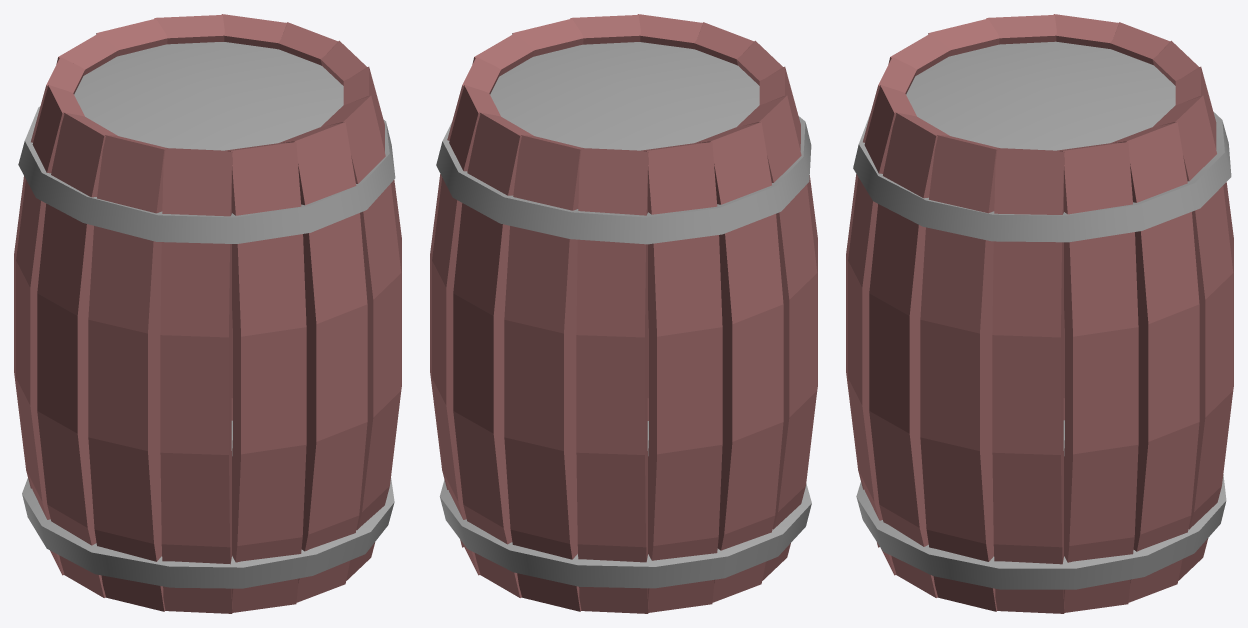
File: Barril2.fbx
3 renders of one model, left to right at view 1: azimuth 30°, elevation 25°; view 2: azimuth 150°, elevation 25°; view 3: azimuth 270°, elevation 25°, orthographic.
Parts seen in each view (by area): view 1: polySurface4805, polySurface4807, polySurface4810, polySurface4798, polySurface4793, polySurface4794, polySurface4802, polySurface4806, polySurface4800, polySurface4796, polySurface4808, polySurface4809 (+6 smaller); view 2: polySurface4809, polySurface4804, polySurface4803, polySurface4796, polySurface4793, polySurface4799, polySurface4794, polySurface4806, polySurface4800, polySurface4808, polySurface4798, polySurface4795 (+6 smaller); view 3: polySurface4795, polySurface4797, polySurface4801, polySurface4808, polySurface4793, polySurface4802, polySurface4799, polySurface4806, polySurface4800, polySurface4798, polySurface4796, polySurface4805 (+6 smaller).
Boxes of the visible parts, x1,y1,x2,y2 form: polySurface4805: (225, 142, 306, 612); polySurface4807: (160, 148, 232, 613); polySurface4810: (88, 135, 166, 611); polySurface4798: (278, 122, 367, 602); polySurface4793: (74, 42, 343, 150); polySurface4794: (37, 112, 117, 597); polySurface4802: (321, 95, 401, 580); polySurface4806: (18, 106, 395, 243); polySurface4800: (22, 420, 394, 588); polySurface4796: (16, 85, 84, 575); polySurface4808: (221, 14, 287, 420); polySurface4809: (14, 57, 84, 488); polySurface4809: (641, 142, 722, 612); polySurface4804: (576, 148, 648, 613); polySurface4803: (504, 135, 582, 611); polySurface4796: (694, 122, 783, 602); polySurface4793: (490, 42, 759, 150); polySurface4799: (453, 112, 533, 597); polySurface4794: (737, 95, 817, 580); polySurface4806: (436, 116, 811, 244); polySurface4800: (439, 421, 811, 588); polySurface4808: (432, 85, 500, 575); polySurface4798: (637, 14, 703, 420); polySurface4795: (430, 57, 500, 547); polySurface4795: (1057, 142, 1138, 612); polySurface4797: (992, 148, 1064, 613); polySurface4801: (920, 135, 998, 611); polySurface4808: (1110, 122, 1199, 602); polySurface4793: (906, 41, 1175, 150); polySurface4802: (869, 112, 949, 597); polySurface4799: (1153, 95, 1233, 580); polySurface4806: (853, 112, 1231, 242); polySurface4800: (856, 420, 1226, 589); polySurface4798: (848, 85, 916, 575); polySurface4796: (1053, 14, 1119, 420); polySurface4805: (846, 57, 916, 547).
Bounding box in the file's own units: 82.42 × 108 × 82.04.
